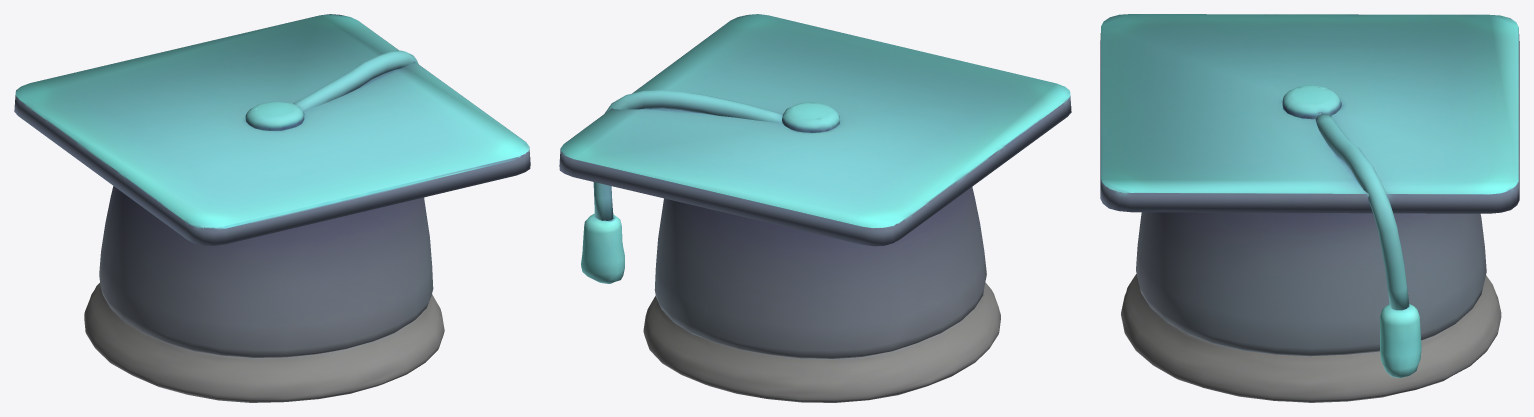
The model's file is icon-grad-cap.glb.
3 views of the same model, side by side, from view 1: azimuth 30°, elevation 25°; view 2: azimuth 150°, elevation 25°; view 3: azimuth 270°, elevation 25° (orthographic). The views are drawn at different scales.
Parts seen in each view (by area): view 1: tripo_node_kodyurd-model-48____________________; view 2: tripo_node_kodyurd-model-48____________________; view 3: tripo_node_kodyurd-model-48____________________.
Part boxes in pixels (x1,y1,x2,y2): tripo_node_kodyurd-model-48____________________: (14, 14, 530, 402); tripo_node_kodyurd-model-48____________________: (559, 14, 1071, 402); tripo_node_kodyurd-model-48____________________: (1100, 14, 1519, 402).
Bounding box in the file's own units: 0.998 × 0.6035 × 0.9434.
Materials: 1 (1 with a texture image).
